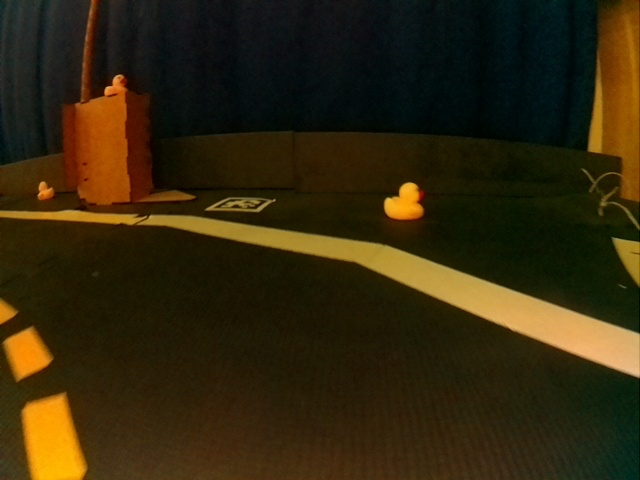Duckie: (384, 183, 425, 220), (104, 75, 128, 95), (37, 182, 55, 200)
QR code: (211, 197, 272, 211)
